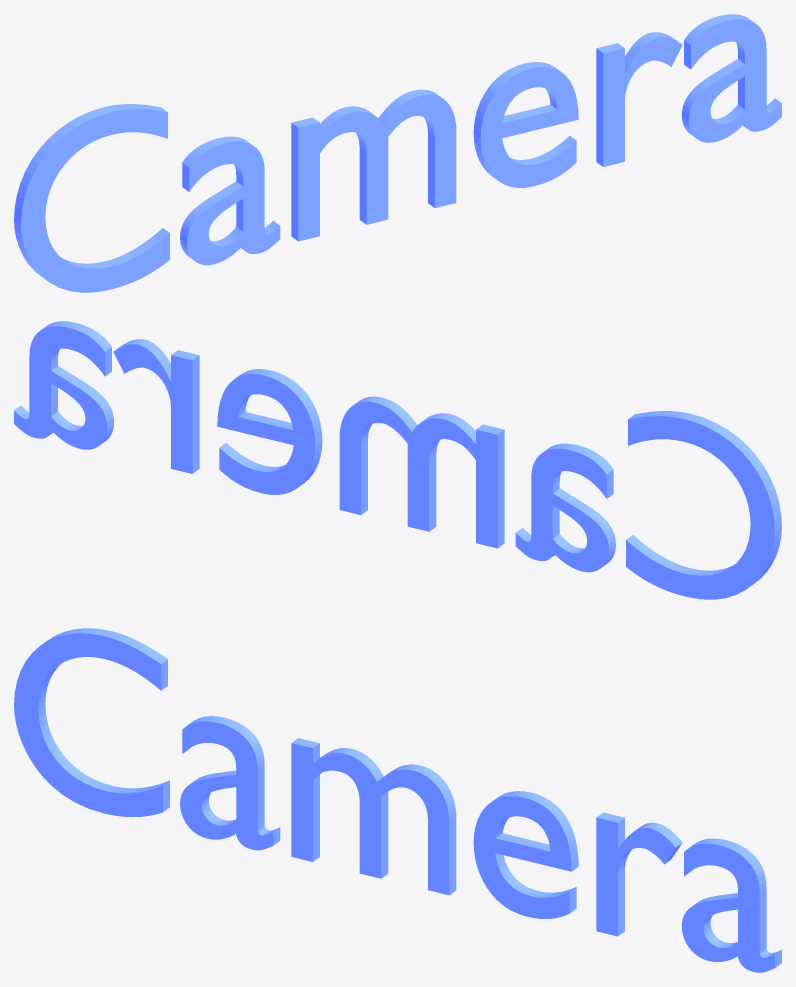
File: textCamera.fbx
3 renders of one model, top to bottom at view 1: azimuth 30°, elevation 25°; view 2: azimuth 150°, elevation 25°; view 3: azimuth 330°, elevation 25°, orthographic.
Parts seen in each view (by area): view 1: 文本的; view 2: 文本的; view 3: 文本的.
Boxes of the visible parts, x1=… form: 文本的: x1=14, y1=14, x2=781, y2=292; 文本的: x1=14, y1=321, x2=781, y2=599; 文本的: x1=14, y1=628, x2=781, y2=972.
Size of the model in its own units: 314 by 70 by 5.
